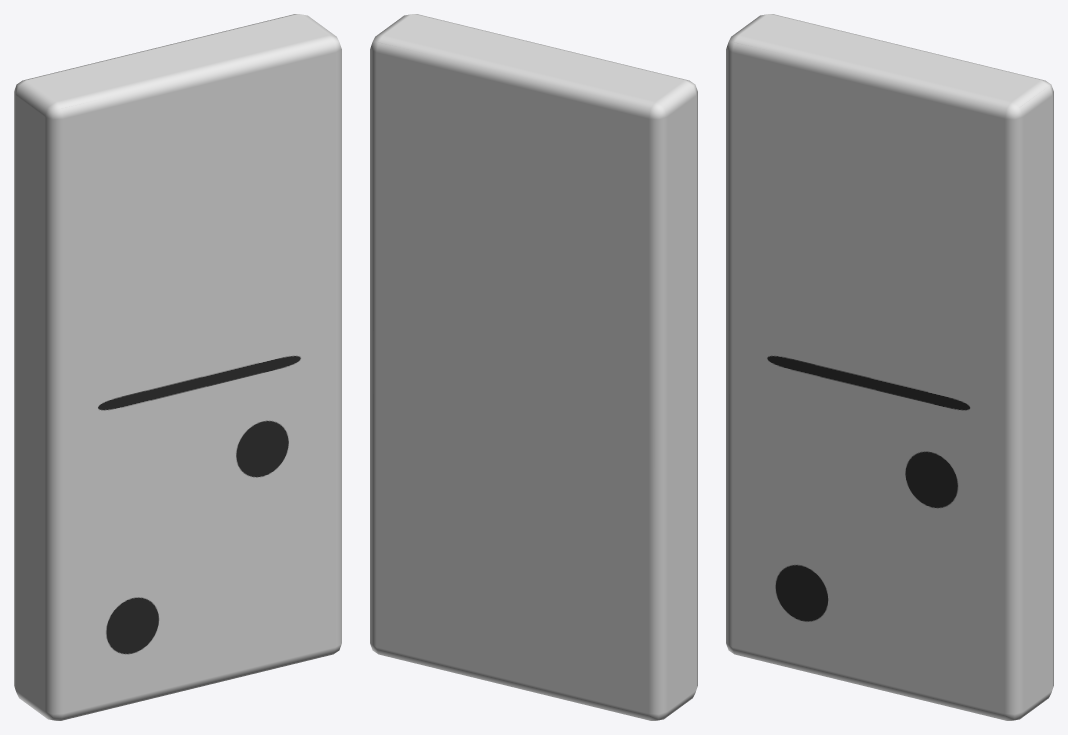
3 renders of one model, left to right at view 1: azimuth 30°, elevation 25°; view 2: azimuth 150°, elevation 25°; view 3: azimuth 330°, elevation 25°, orthographic.
Parts seen in each view (by area): view 1: Low; view 2: Low; view 3: Low.
Boxes of the visible parts, x1,y1,x2,y2 form: Low: [14, 14, 341, 720]; Low: [370, 14, 697, 720]; Low: [726, 14, 1053, 720].
Size of the model in its own units: 0.0254 by 0.0508 by 0.00635.
Materials: 1 (1 with a texture image).
